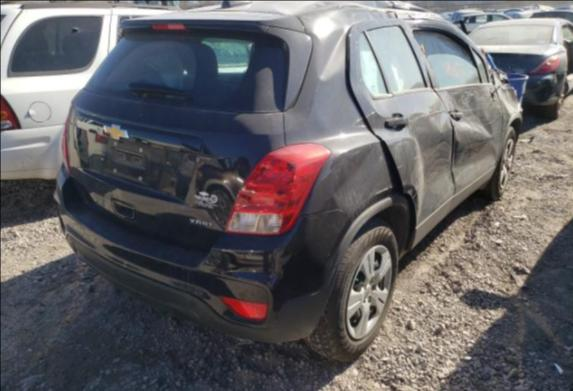Broken part: (341, 15, 457, 252)
Dent: (434, 85, 494, 191), (330, 143, 393, 216), (312, 5, 386, 40), (315, 27, 346, 79), (490, 67, 520, 118)
Missing part: (99, 137, 180, 188), (411, 29, 481, 85), (498, 73, 512, 89)
Scratch: (372, 99, 455, 225), (416, 110, 446, 117), (375, 185, 393, 194), (351, 116, 362, 127), (365, 111, 375, 118), (377, 155, 384, 162), (354, 124, 366, 127), (413, 156, 418, 160), (397, 165, 402, 168)
